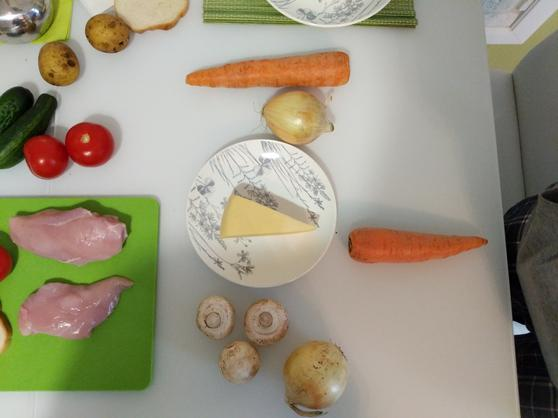carrot: (185, 52, 353, 88), (346, 220, 490, 262)
champignon: (245, 295, 290, 347), (220, 341, 261, 381), (197, 295, 234, 337)
cheese: (220, 190, 313, 234)
chicken_fillet: (20, 273, 134, 338), (13, 202, 128, 265)
onion: (284, 338, 349, 418), (261, 84, 338, 145)
potato: (38, 38, 85, 88), (85, 13, 136, 55)
tomato: (67, 119, 115, 166)
